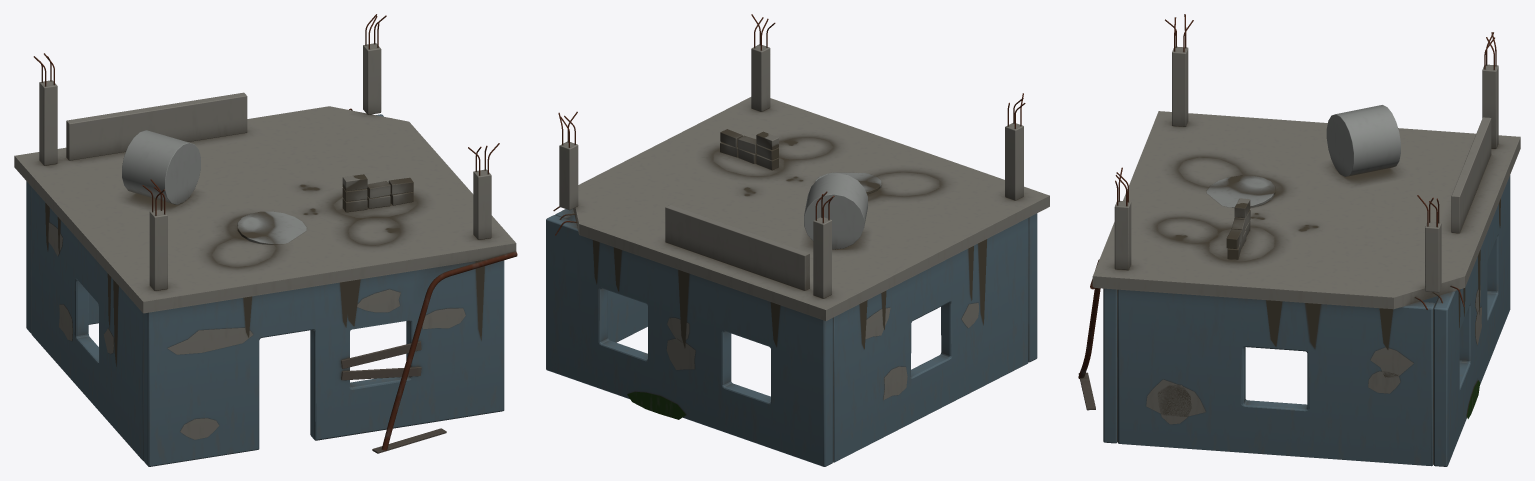
File: casa_b.glb
3 renders of one model, left to right at view 1: azimuth 30°, elevation 25°; view 2: azimuth 150°, elevation 25°; view 3: azimuth 270°, elevation 25°, orthographic. The views are drawn at different scales.
Parts seen in each view (by area): view 1: g_casa_b; view 2: g_casa_b; view 3: g_casa_b.
Part boxes in pixels (x1,y1,x2,y2): g_casa_b: (14, 14, 517, 466); g_casa_b: (546, 14, 1049, 466); g_casa_b: (1078, 14, 1520, 466).
Bounding box in the file's own units: 7.62 × 5.33 × 7.59.
Materials: 1 (1 with a texture image).
